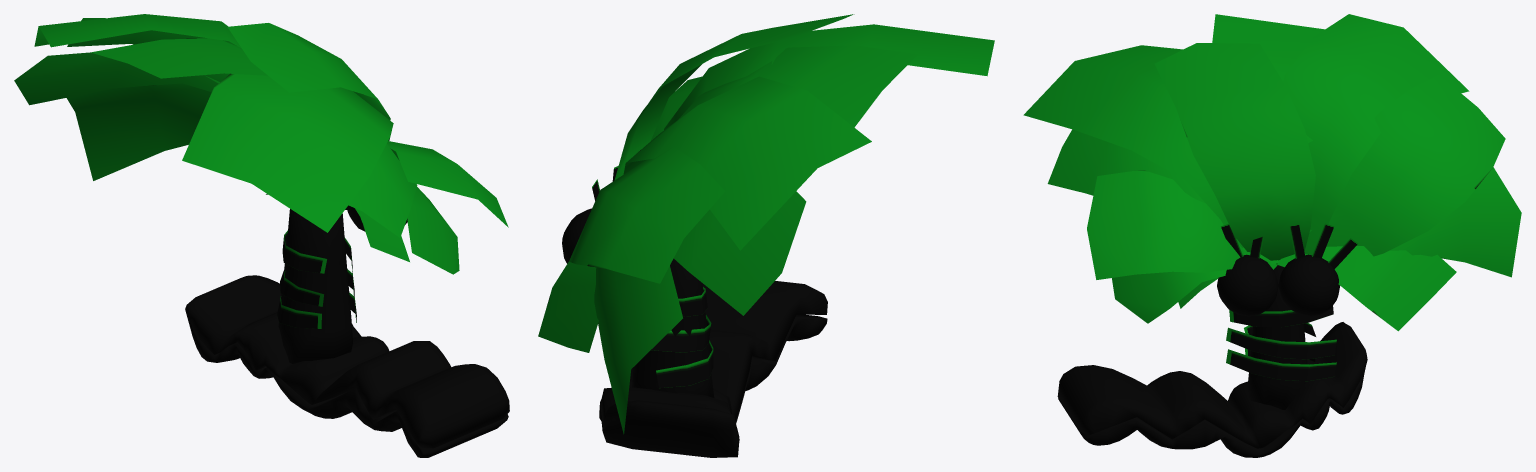
Rendered from coco_head.obj.
The picture shows the model from 3 angles, left to right: view 1: azimuth 30°, elevation 25°; view 2: azimuth 150°, elevation 25°; view 3: azimuth 270°, elevation 25°; orthographic projection. The views are drawn at different scales.
Parts seen in each view (by area): view 1: polySurface5 polySurface2 coco; view 2: polySurface5 polySurface2 coco; view 3: polySurface5 polySurface2 coco.
Part boxes in pixels (x1,y1,x2,y2): polySurface5 polySurface2 coco: (14, 14, 509, 457); polySurface5 polySurface2 coco: (538, 14, 994, 457); polySurface5 polySurface2 coco: (1023, 14, 1521, 457).
Size of the model in its own units: 20.91 by 24.68 by 31.9.
